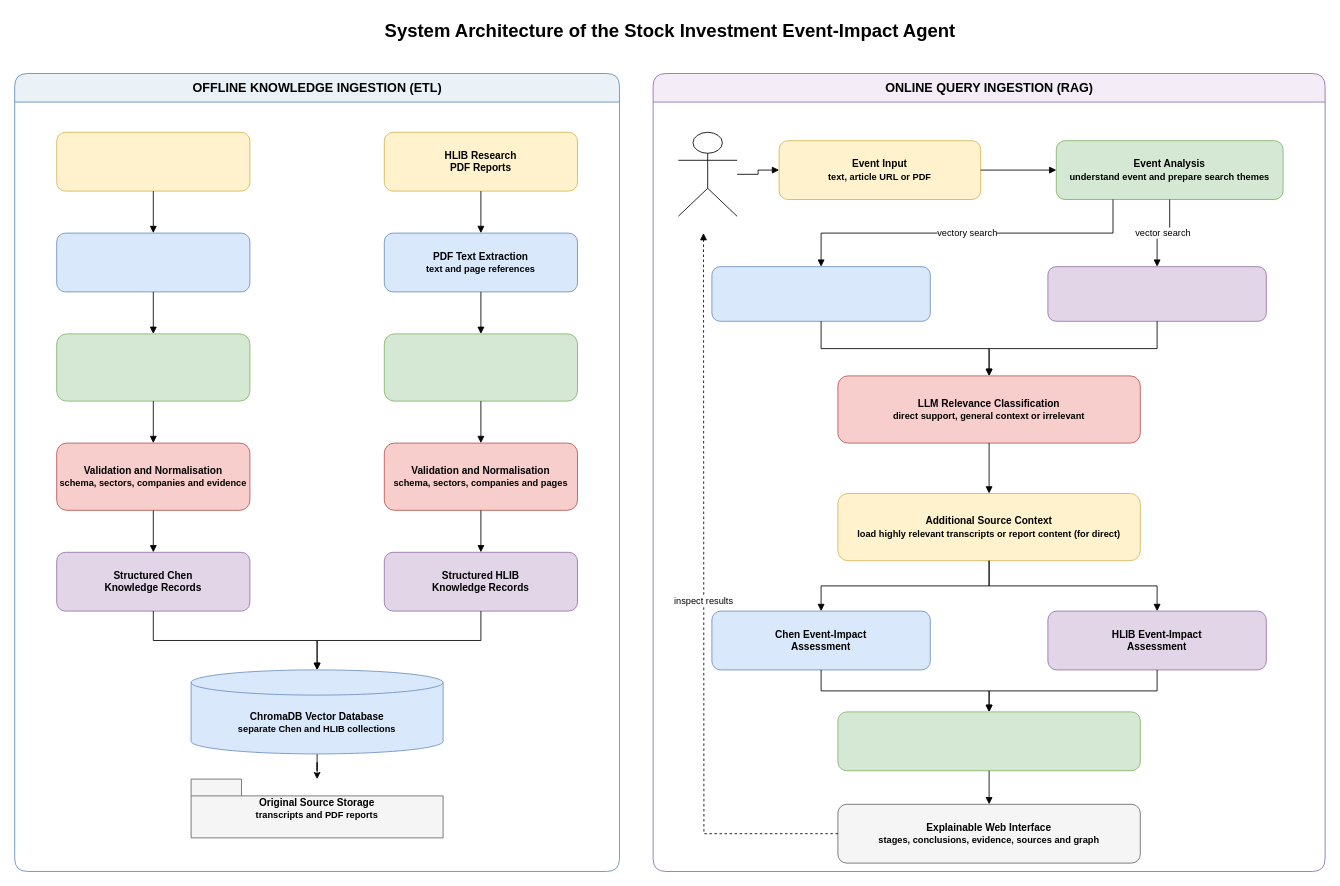
Image size: 1340x886. Some labels were removed from this diagram. Here are the shapes that lost their labels. From the top down, the centre of each, then its label:
point (153, 161): Alfred Chen YouTube Videos
point (707, 173): User
point (153, 262): Transcript Extraction captions and timestamps
point (820, 293): Retrieve Chen Records
point (1156, 293): Retrieve HLIB Records
point (153, 367): Chen Transformation LLM structures financial knowledge
point (480, 367): HLIB Transformation LLM structures report knowledge
point (988, 741): Source Comparison and Causal Graph
